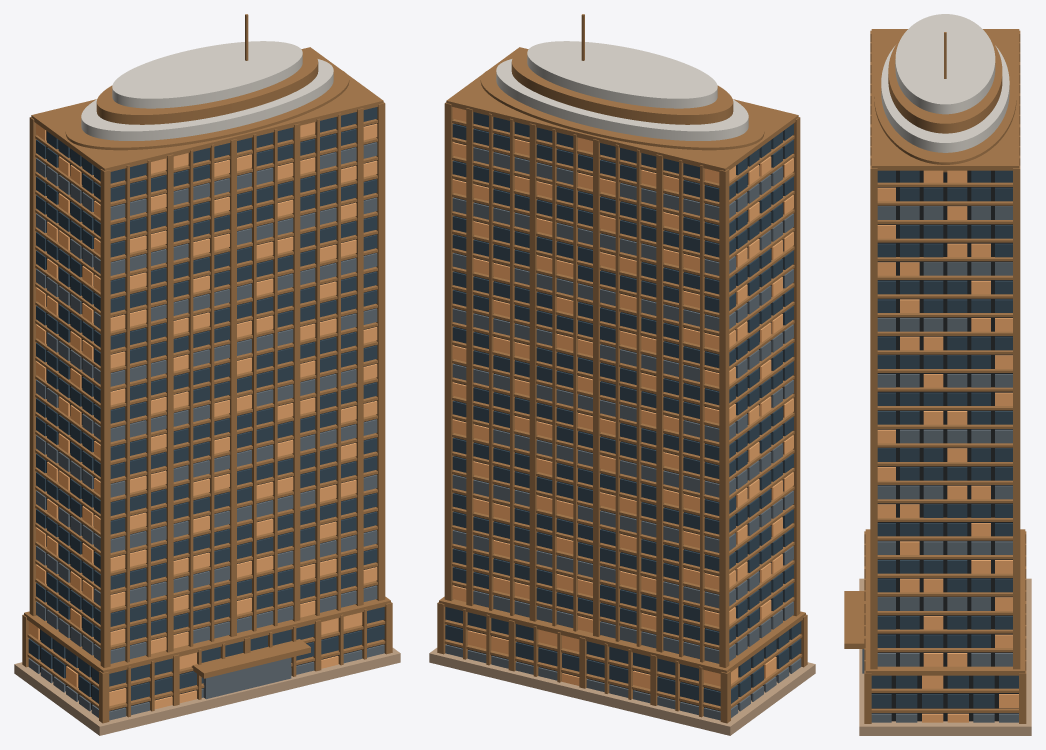
File: mumbai-nebula.glb
The picture shows the model from 3 angles, left to right: view 1: azimuth 30°, elevation 25°; view 2: azimuth 150°, elevation 25°; view 3: azimuth 270°, elevation 25°; orthographic projection.
Visible parts, largest first — view 1: Facade, Entrances and podium, Roof detailing; view 2: Facade, Entrances and podium, Roof detailing; view 3: Facade, Roof detailing, Entrances and podium.
Part boxes in pixels (<box>): Facade: <box>29,47,385,667</box>; Entrances and podium: <box>14,596,400,735</box>; Roof detailing: <box>65,14,349,150</box>; Facade: <box>444,47,800,667</box>; Entrances and podium: <box>429,596,815,735</box>; Roof detailing: <box>480,14,764,150</box>; Facade: <box>870,29,1020,669</box>; Roof detailing: <box>874,14,1016,172</box>; Entrances and podium: <box>844,529,1031,735</box>.
Size of the model in its own units: 6.14 by 12.55 by 3.28.
